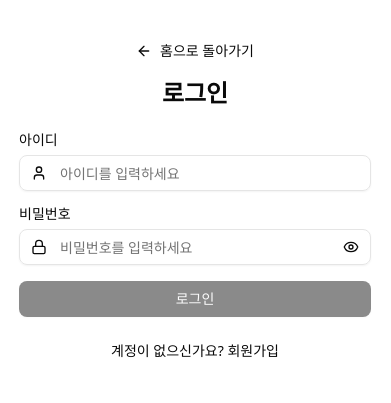
Test: LoginPage › 아이디 최소 길이 validation 테스트
Type "a" into the field labelled "아이디" at (195, 173), box [19, 155, 371, 191]
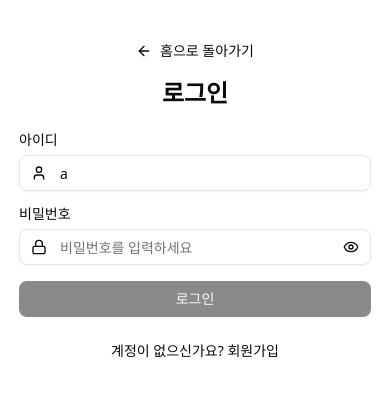
Click the button "로그인" at (195, 299), box [19, 281, 371, 317]
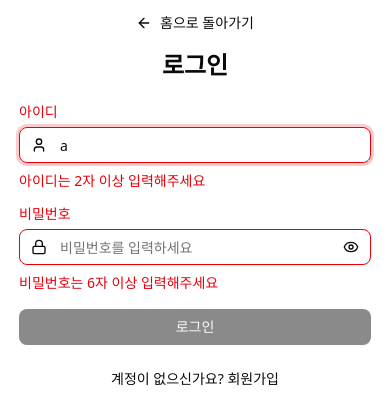
Check: the text "아이디는 2자 이상 입력해주세요" is shown, box [19, 171, 205, 190]
